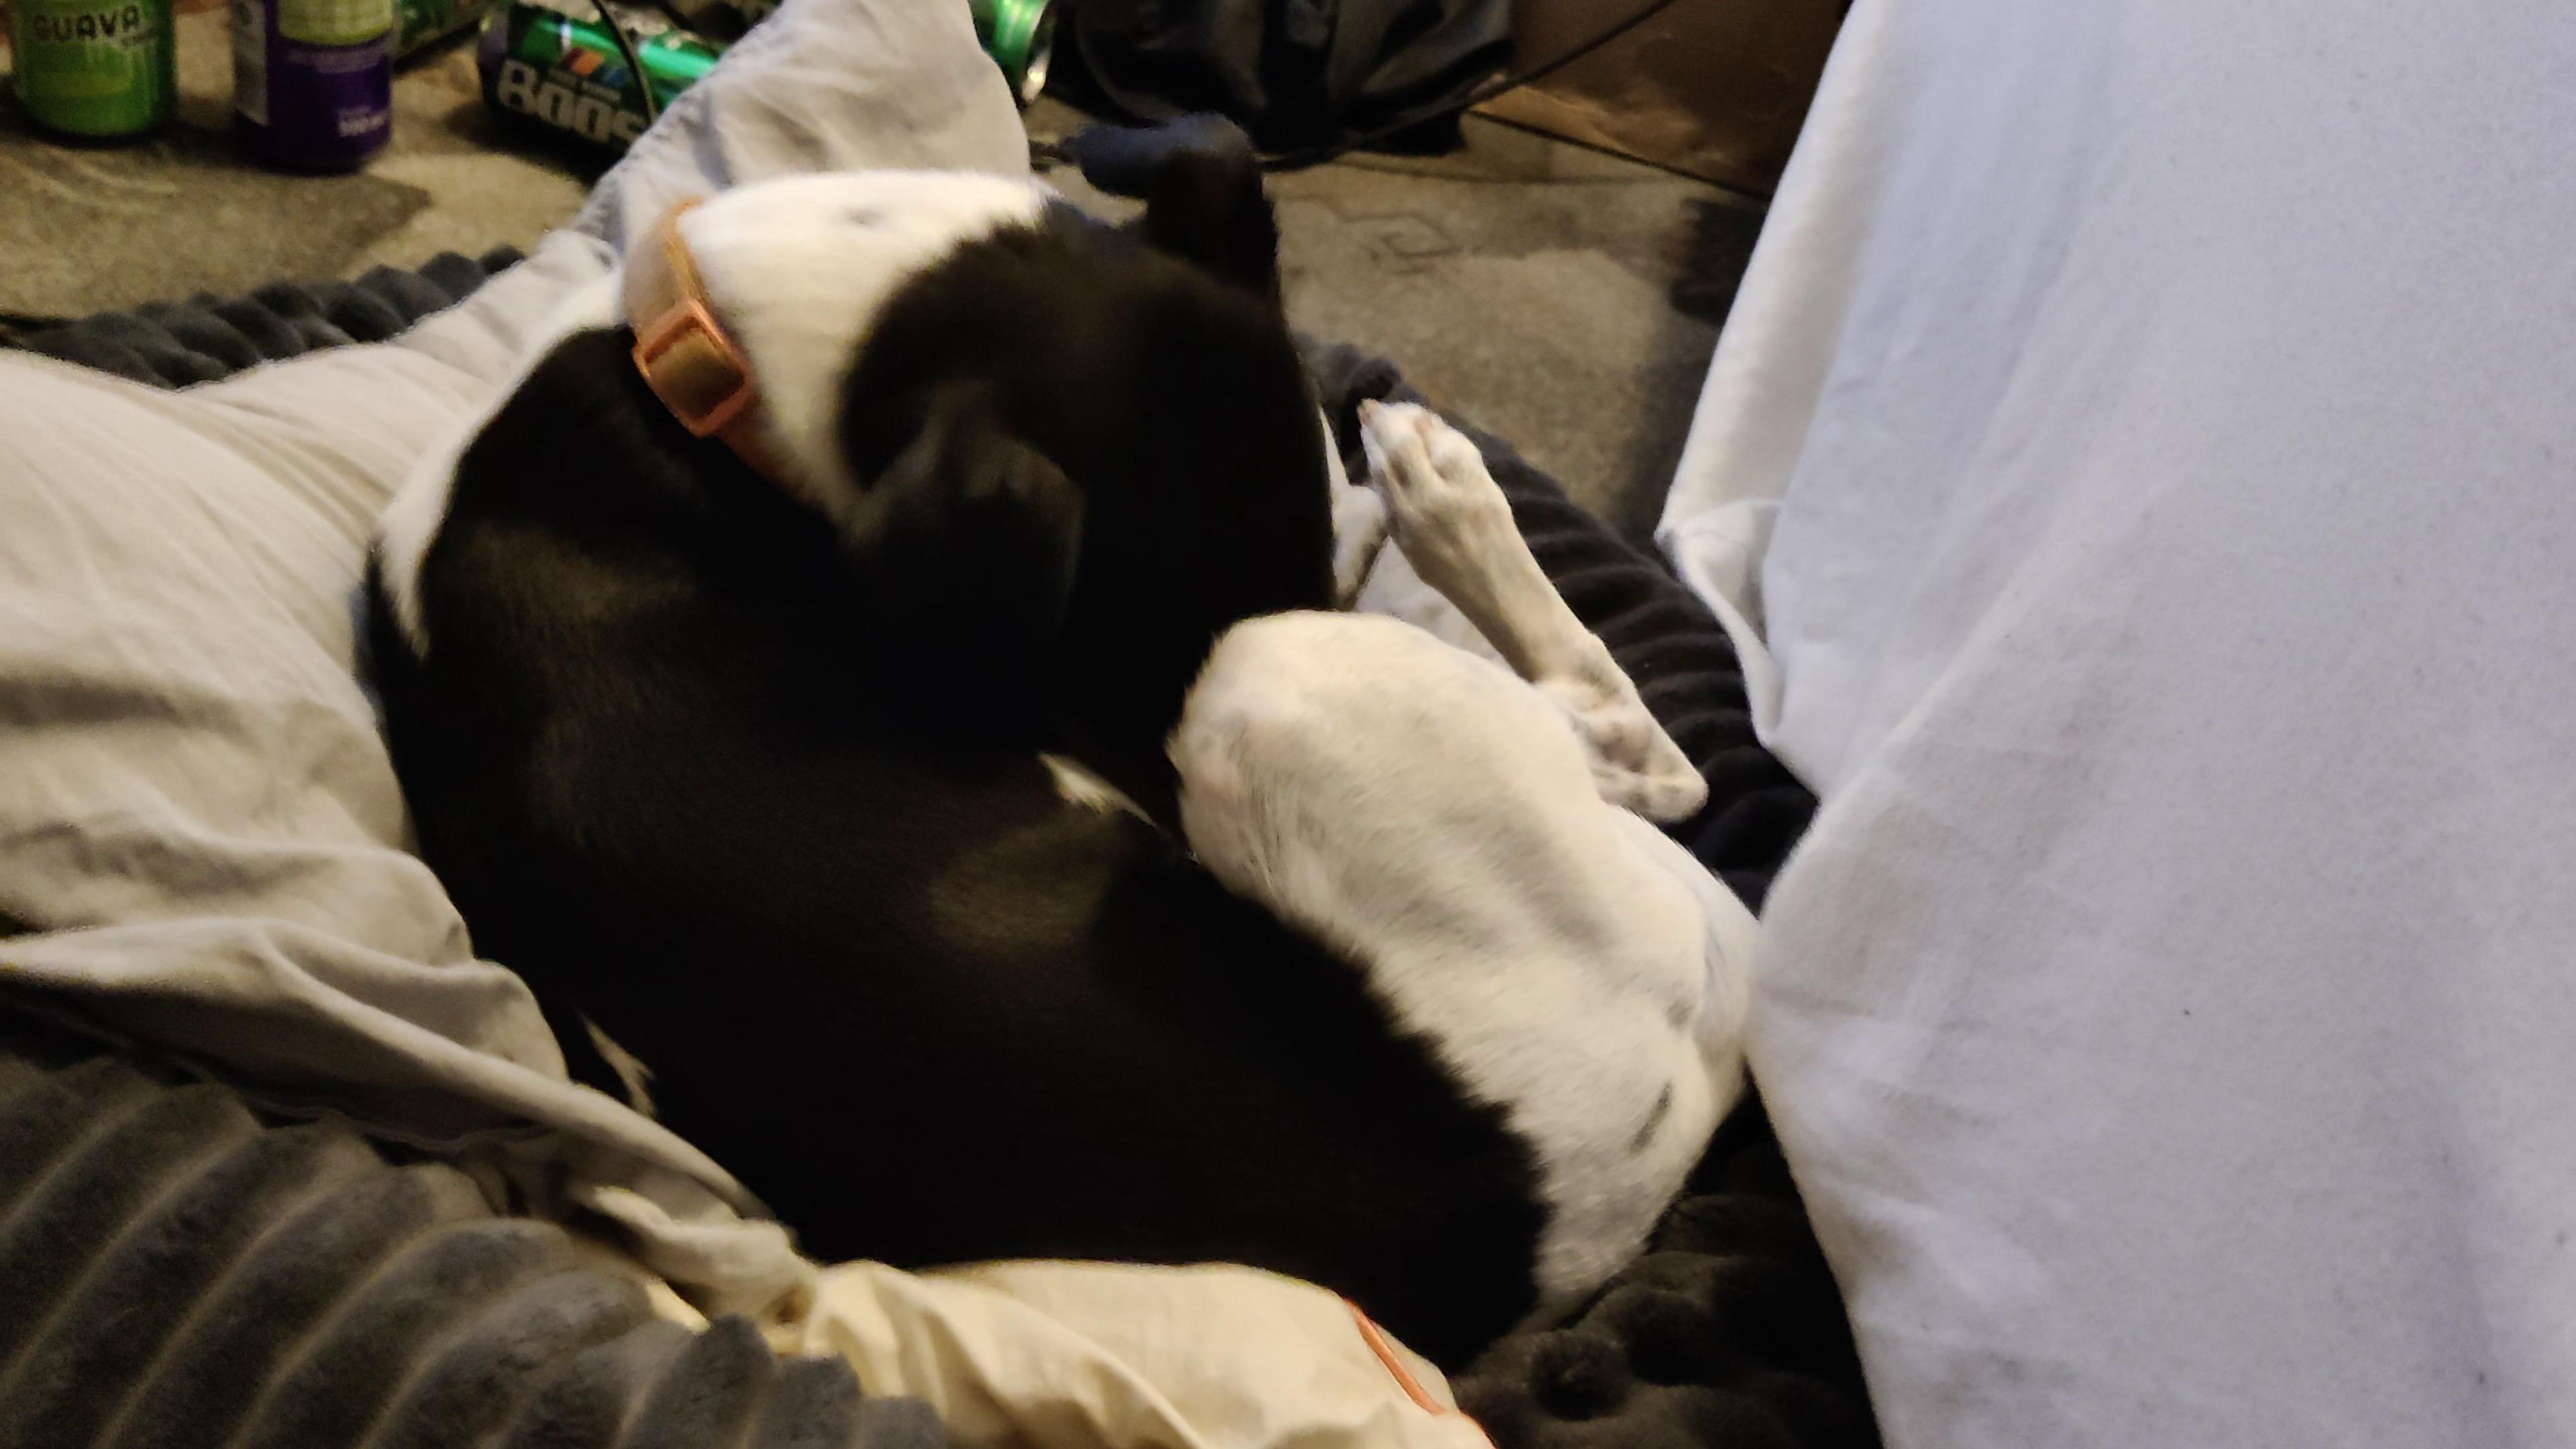Dog: (306, 90, 1856, 1414)
